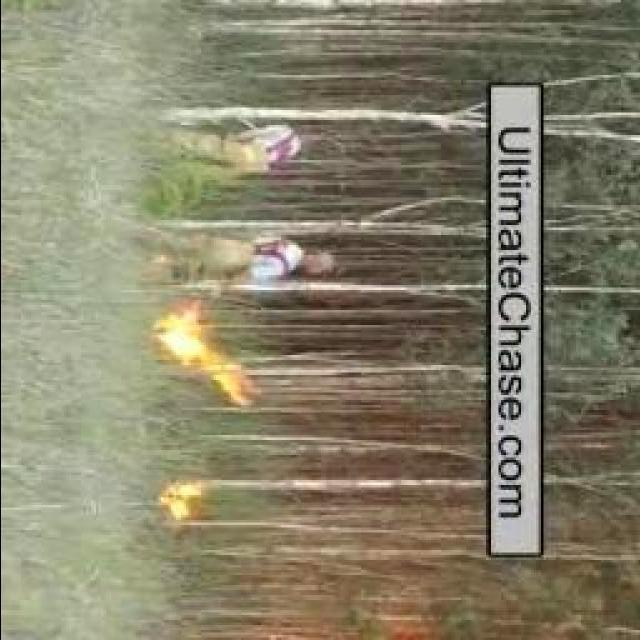Fire: (153, 302, 241, 413), (156, 302, 204, 376), (160, 480, 200, 520)
